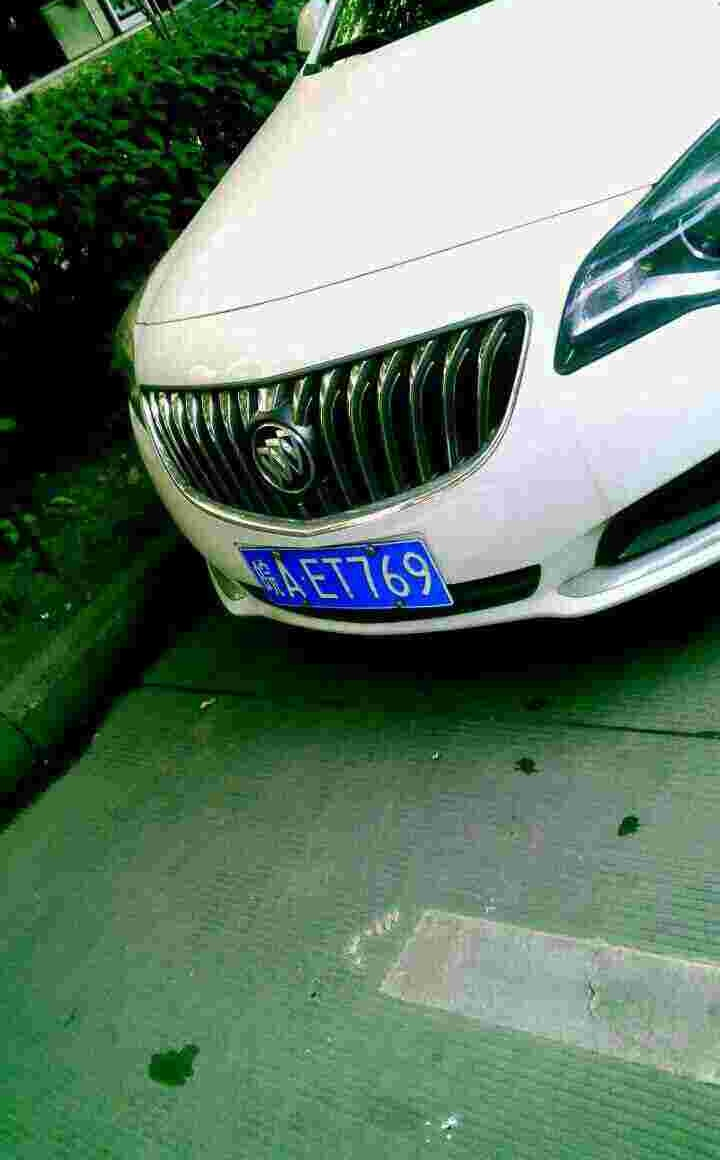car: (229, 537, 450, 615)
